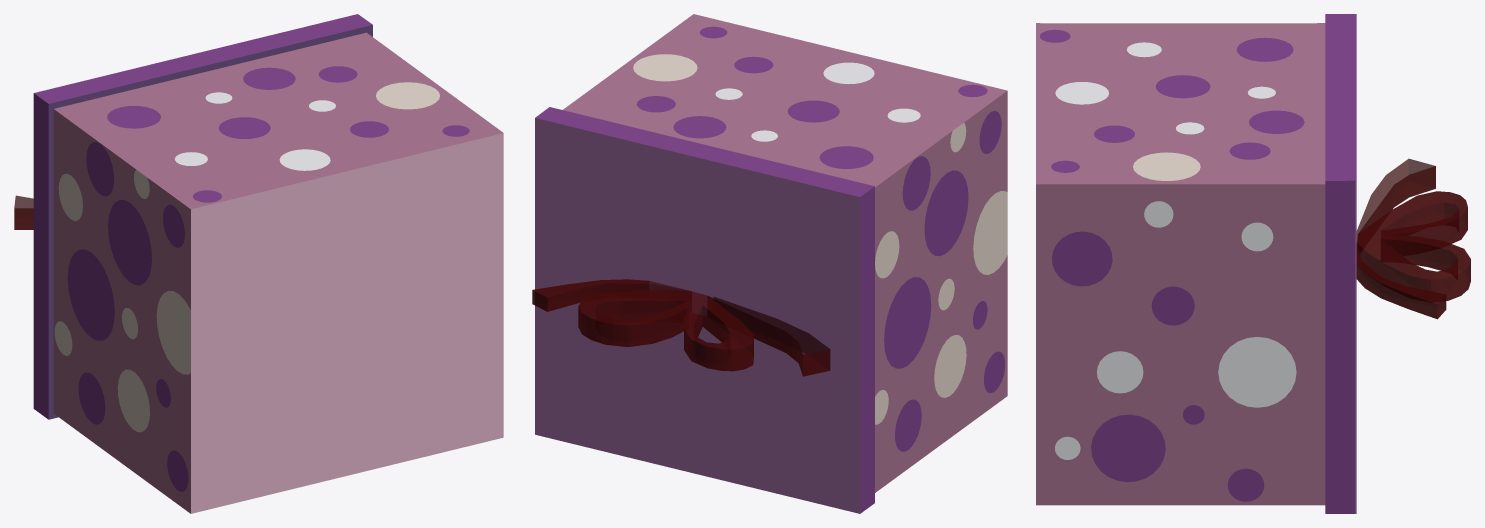
3 views of the same model, side by side, from view 1: azimuth 30°, elevation 25°; view 2: azimuth 150°, elevation 25°; view 3: azimuth 270°, elevation 25° (orthographic). The views are drawn at different scales.
Parts seen in each view (by area): view 1: Mesh1 Model, Mesh2 Model; view 2: Mesh1 Model, Mesh2 Model; view 3: Mesh1 Model, Mesh2 Model.
Boxes of the visible parts, x1=… form: Mesh1 Model: x1=33, y1=14, x2=503, y2=513; Mesh2 Model: x1=14, y1=195, x2=33, y2=229; Mesh1 Model: x1=535, y1=14, x2=1007, y2=513; Mesh2 Model: x1=532, y1=279, x2=830, y2=376; Mesh1 Model: x1=1036, y1=14, x2=1356, y2=513; Mesh2 Model: x1=1356, y1=158, x2=1470, y2=319.
Size of the model in its own units: 1.32 by 1.23 by 1.45.
